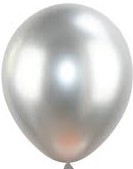Balloon: (2, 3, 133, 163)
